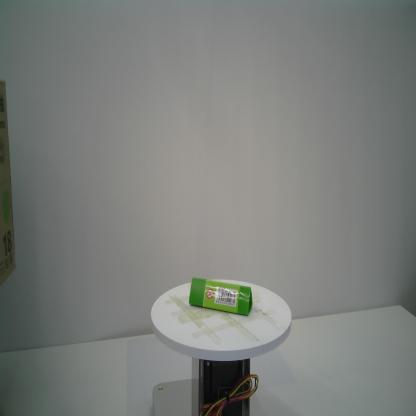Stationery: (187, 275, 254, 318)
